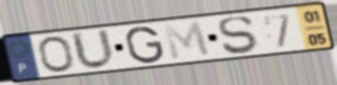7: (263, 13, 292, 49)
G: (123, 25, 166, 65)
M: (160, 19, 213, 62)
O: (37, 35, 77, 74)
S: (216, 14, 259, 56)
U: (68, 27, 118, 72)
